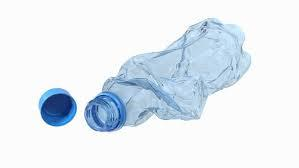plastic: (90, 19, 254, 128)
